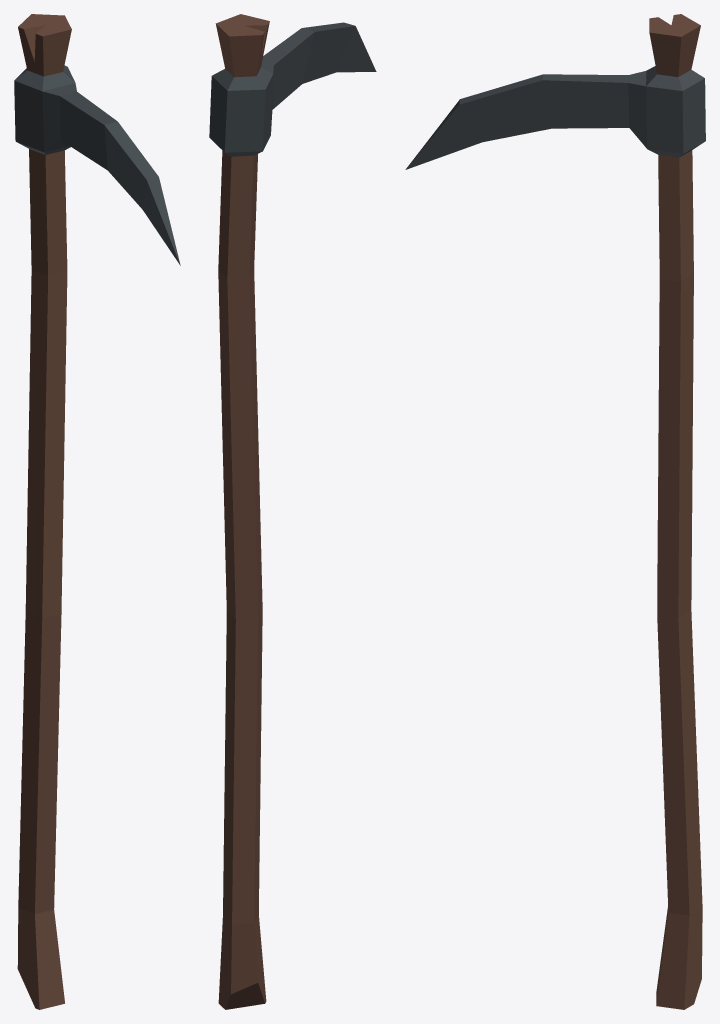
The model's file is LPHorror_Sythe.fbx.
3 renders of one model, left to right at view 1: azimuth 30°, elevation 25°; view 2: azimuth 150°, elevation 25°; view 3: azimuth 270°, elevation 25°, orthographic.
Visible parts, largest first — view 1: Sythe; view 2: Sythe; view 3: Sythe.
Boxes of the visible parts, box(x1,y1,x2,y2) form: Sythe: box(14, 14, 180, 1009); Sythe: box(209, 14, 376, 1009); Sythe: box(405, 14, 705, 1009).
Size of the model in its own units: 11.32 by 190 by 53.19.
